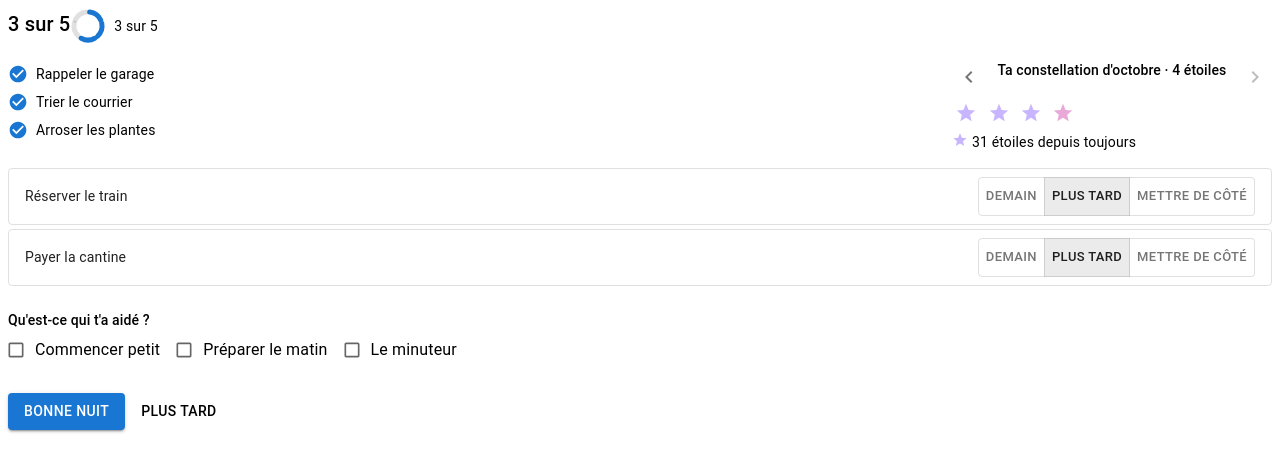
Scenario: TaskEvening — « Le soir » (MAG-500) › « Mois précédent » shows last month's 7 stars, « Mois suivant » comes back (MAG-509)
The image size is (1280, 460).
Expected: the heading "Ta constellation d'octobre · 4 étoiles" is shown, [998,62,1226,78]
Click the button named "Mois précédent".
click(969, 77)  # box [952,60,986,94]
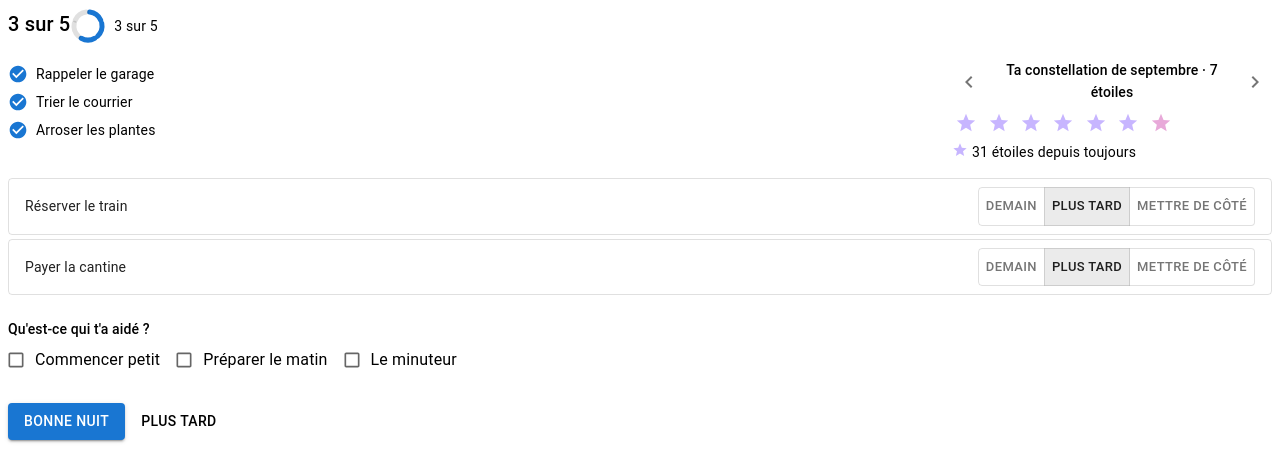
Expected: the heading "Ta constellation de septembre · 7 étoiles" is shown, [994,60,1230,104]
Expected: the number of icons with test id "constellation-star" is 7
Expected: the button named "Mois suivant" is enabled
Click the button named "Mois suivant".
click(1255, 82)  # box [1238,60,1272,104]
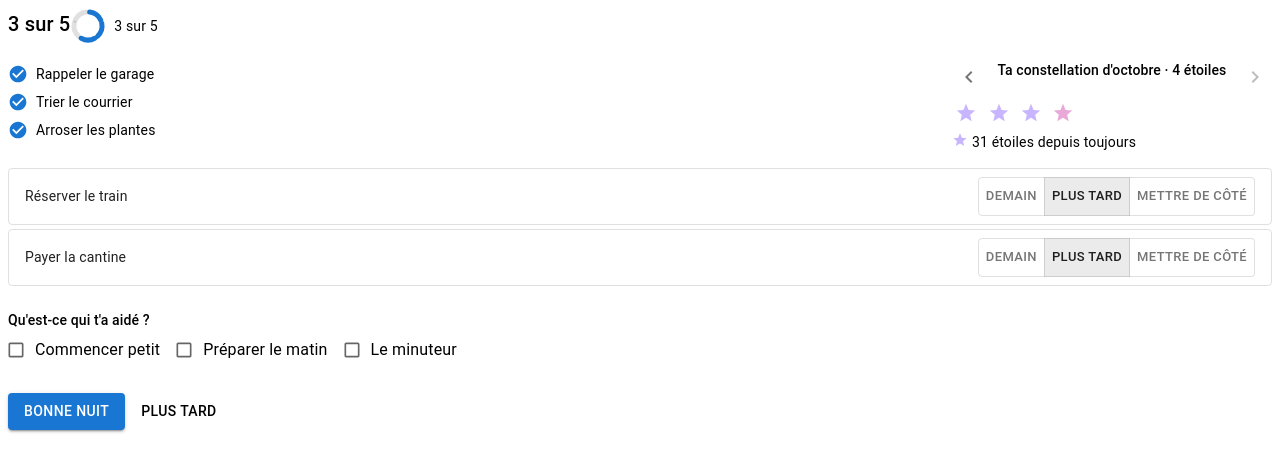
Expected: the heading "Ta constellation d'octobre · 4 étoiles" is shown, [998,62,1226,78]
Expected: the button named "Mois suivant" is disabled, [1238,60,1272,94]
